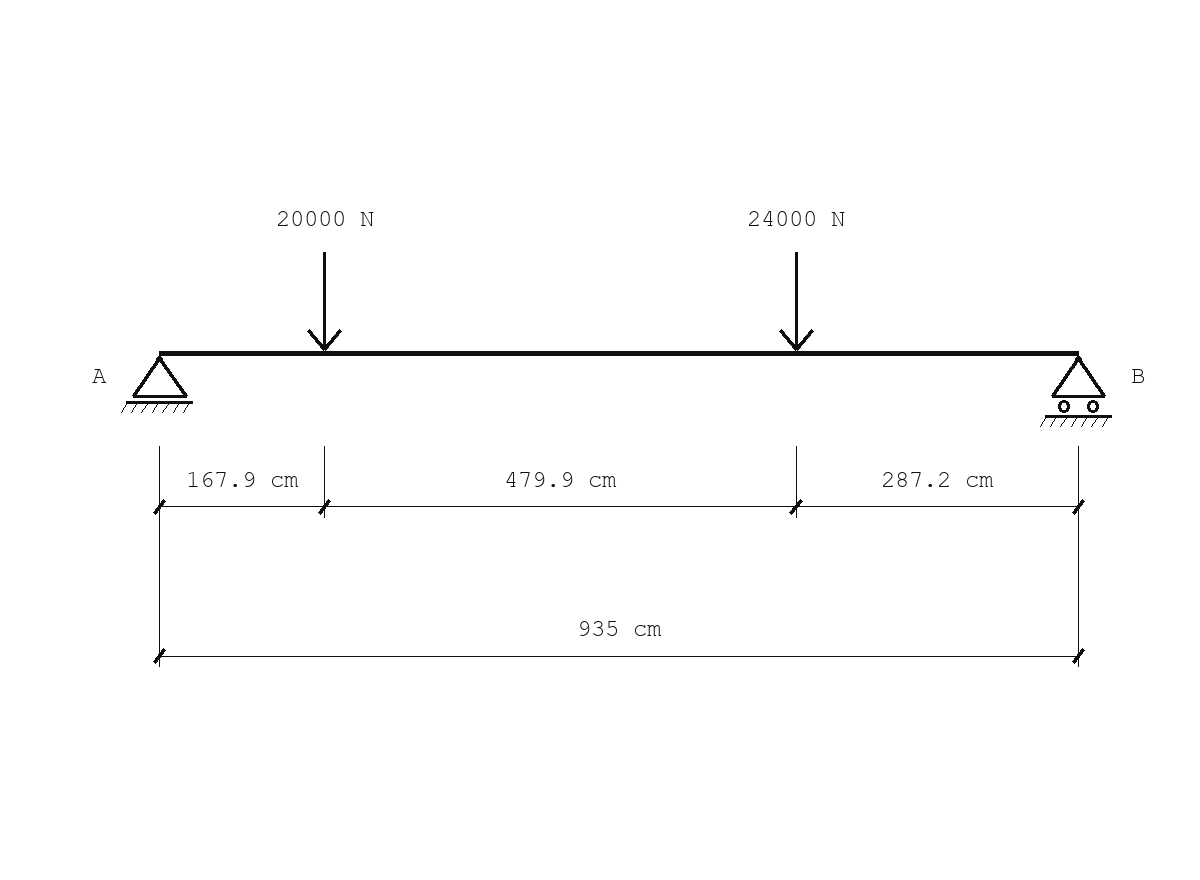pin_support: (121, 356, 193, 413)
point_load: (307, 252, 342, 351), (779, 252, 814, 351)
roller_support: (1040, 356, 1112, 427)
